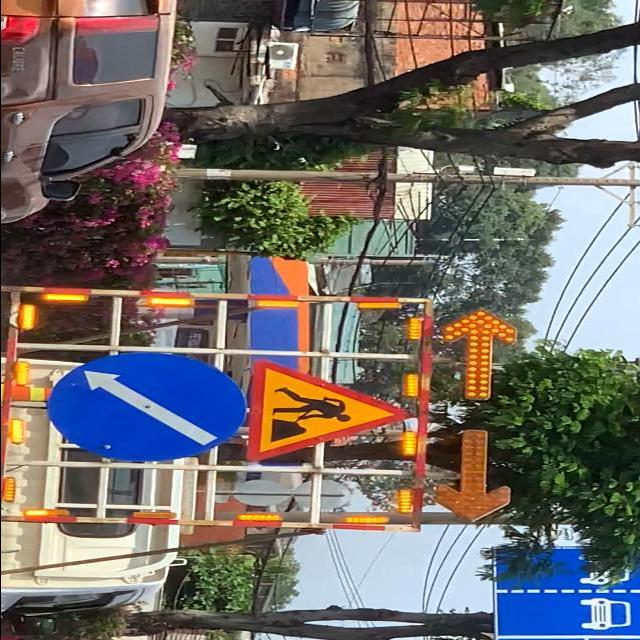R-302b: (46, 348, 248, 462)
